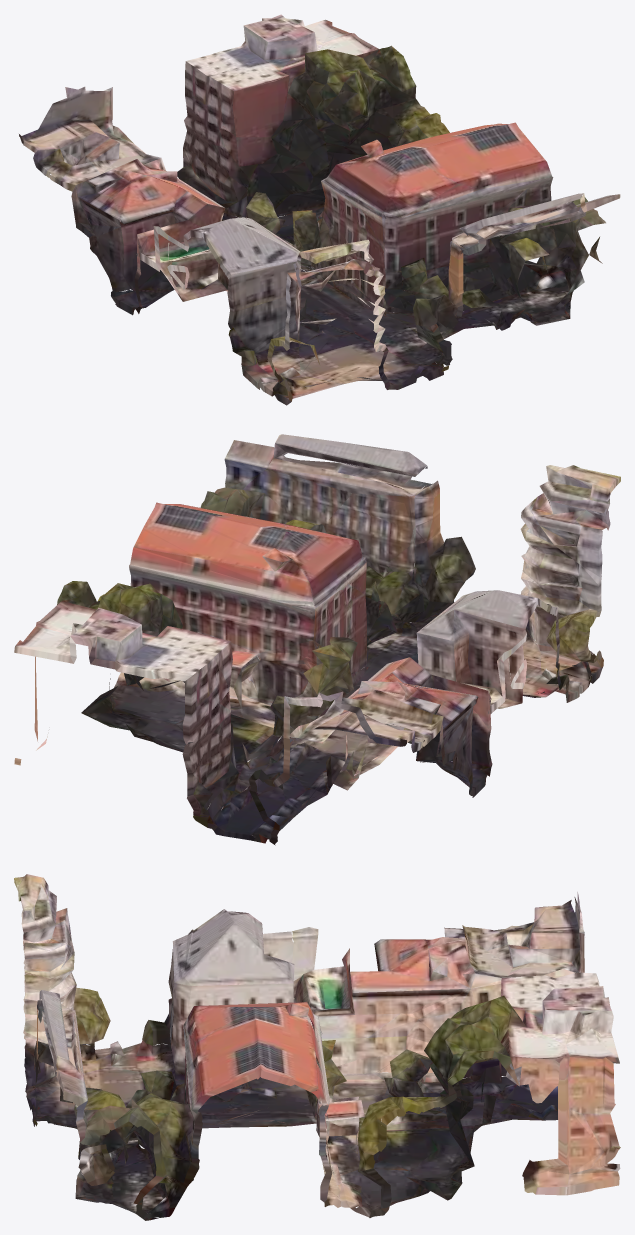
The picture shows the model from 3 angles, top to bottom: view 1: azimuth 30°, elevation 25°; view 2: azimuth 150°, elevation 25°; view 3: azimuth 270°, elevation 25°; orthographic projection. The views are drawn at different scales.
Parts seen in each view (by area): view 1: Mesh_0; view 2: Mesh_0; view 3: Mesh_0.
Boxes of the visible parts, left/top/right/bottom form: Mesh_0: left=19, top=14, right=620, bottom=405; Mesh_0: left=14, top=434, right=620, bottom=845; Mesh_0: left=14, top=874, right=620, bottom=1220.
Bounding box in the file's own units: 67.5 × 28.01 × 82.72.
Materials: 1 (1 with a texture image).
